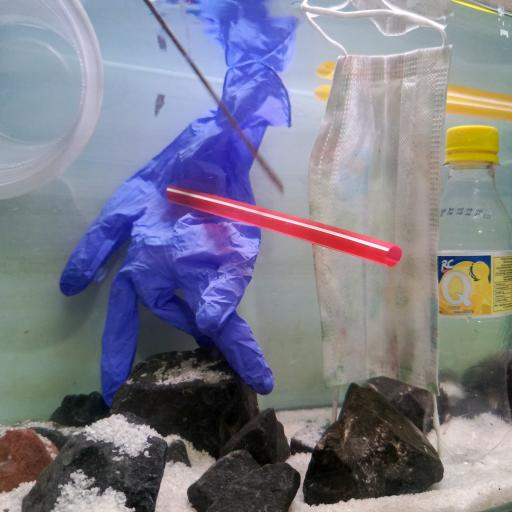bottle_cap: (446, 124, 500, 151)
glove: (61, 60, 293, 405)
mask: (300, 0, 453, 440)
plastic_bottle: (434, 125, 512, 468)
plastic_cup: (0, 0, 106, 203)
plastic_straw: (166, 184, 402, 268), (314, 84, 512, 122)
